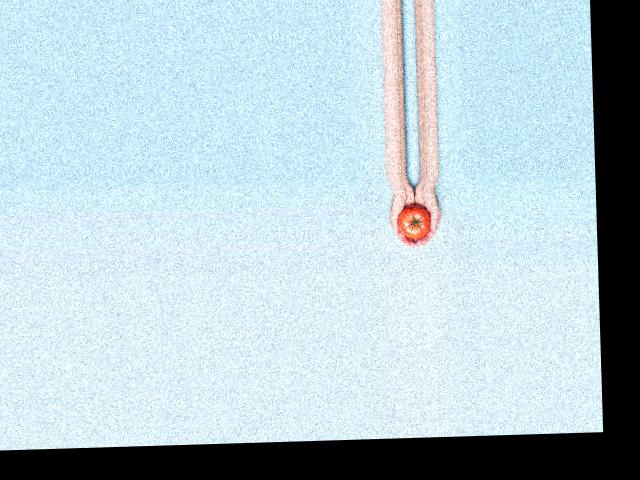tomato: (397, 204, 432, 239)
